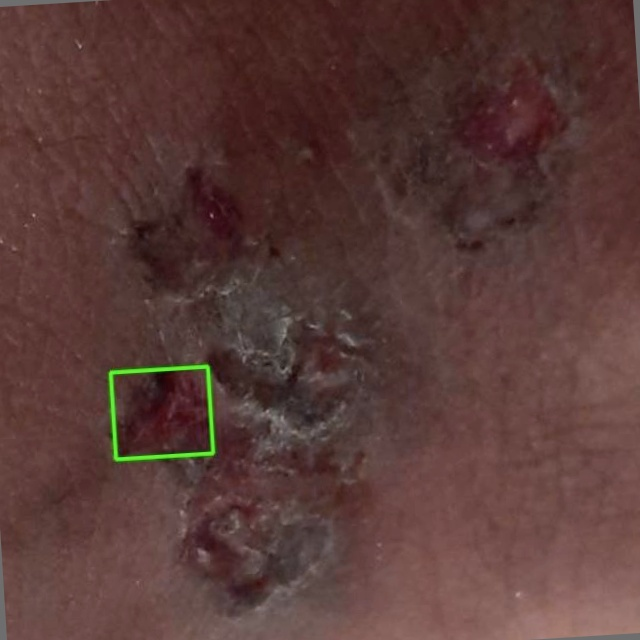Eczema: (110, 366, 213, 459)
